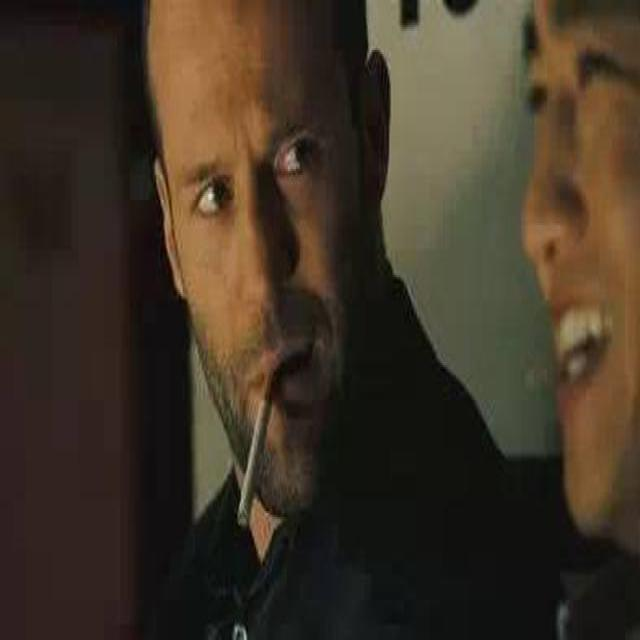smoking: (229, 352, 278, 530)
